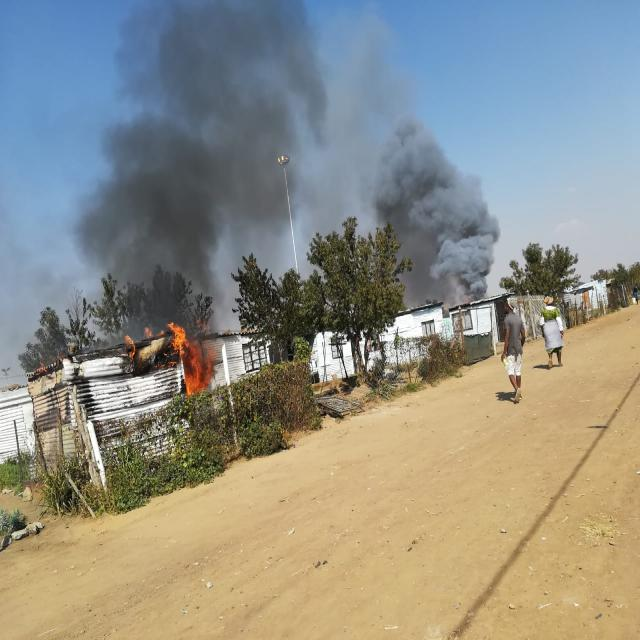fire: (169, 321, 212, 393)
smoke: (178, 3, 316, 129), (113, 138, 218, 298)
